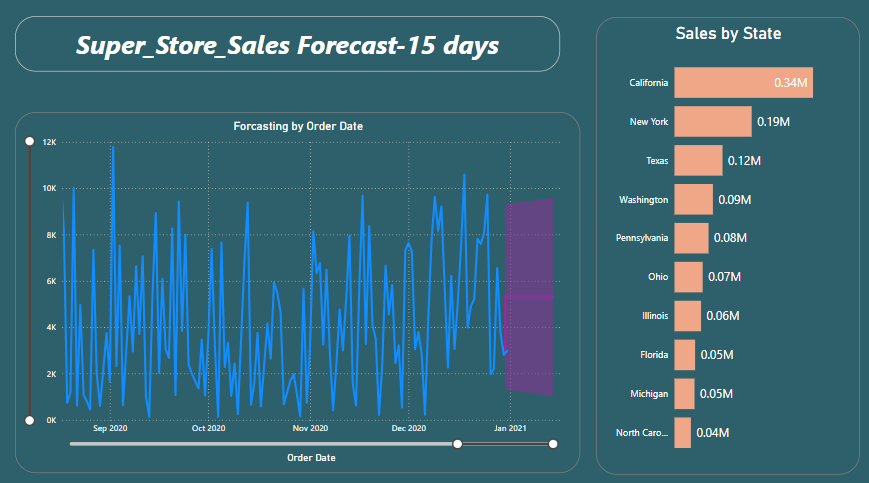

What the dashboard file says about the page in this screenshot:
{"tool":"powerbi","page":{"name":"Sales Forcasting","canvas":[1280,720],"ordinal":1},"visuals":[{"type":"lineChart","title":"Forcasting by Order Date","fields":{"Y":["Sum(SuperStore_Sales_Dataset.Sales)"],"Category":["SuperStore_Sales_Dataset.Order Date"]},"box":[36,167.4,813.7,520.3],"z":0},{"type":"clusteredBarChart","title":"Sales by State","fields":{"Category":["SuperStore_Sales_Dataset.State"],"Y":["Sum(SuperStore_Sales_Dataset.Sales)"]},"box":[873.1,30.6,379.9,658.9],"z":1000},{"type":"textbox","box":[35.4,28.3,785,80.1],"z":2000}]}

Visuals, with their boxes in screenshot pixels (x1, y1, x2, y2), scaled from the page's 1280x720 canvas onto the 869x483 screenshot:
"Forcasting by Order Date" lineChart: (x1=24, y1=112, x2=577, y2=461)
"Sales by State" clusteredBarChart: (x1=593, y1=21, x2=851, y2=463)
textbox: (x1=24, y1=19, x2=557, y2=73)
